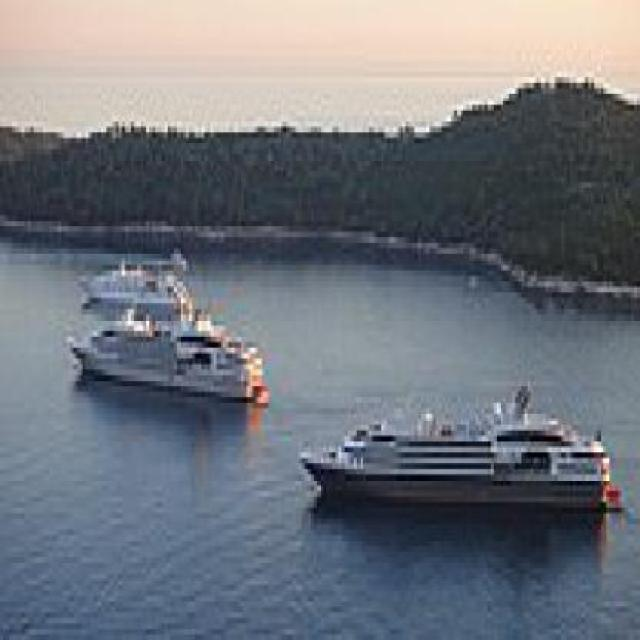cruise: (293, 376, 629, 531), (65, 304, 282, 421), (77, 249, 199, 321)
